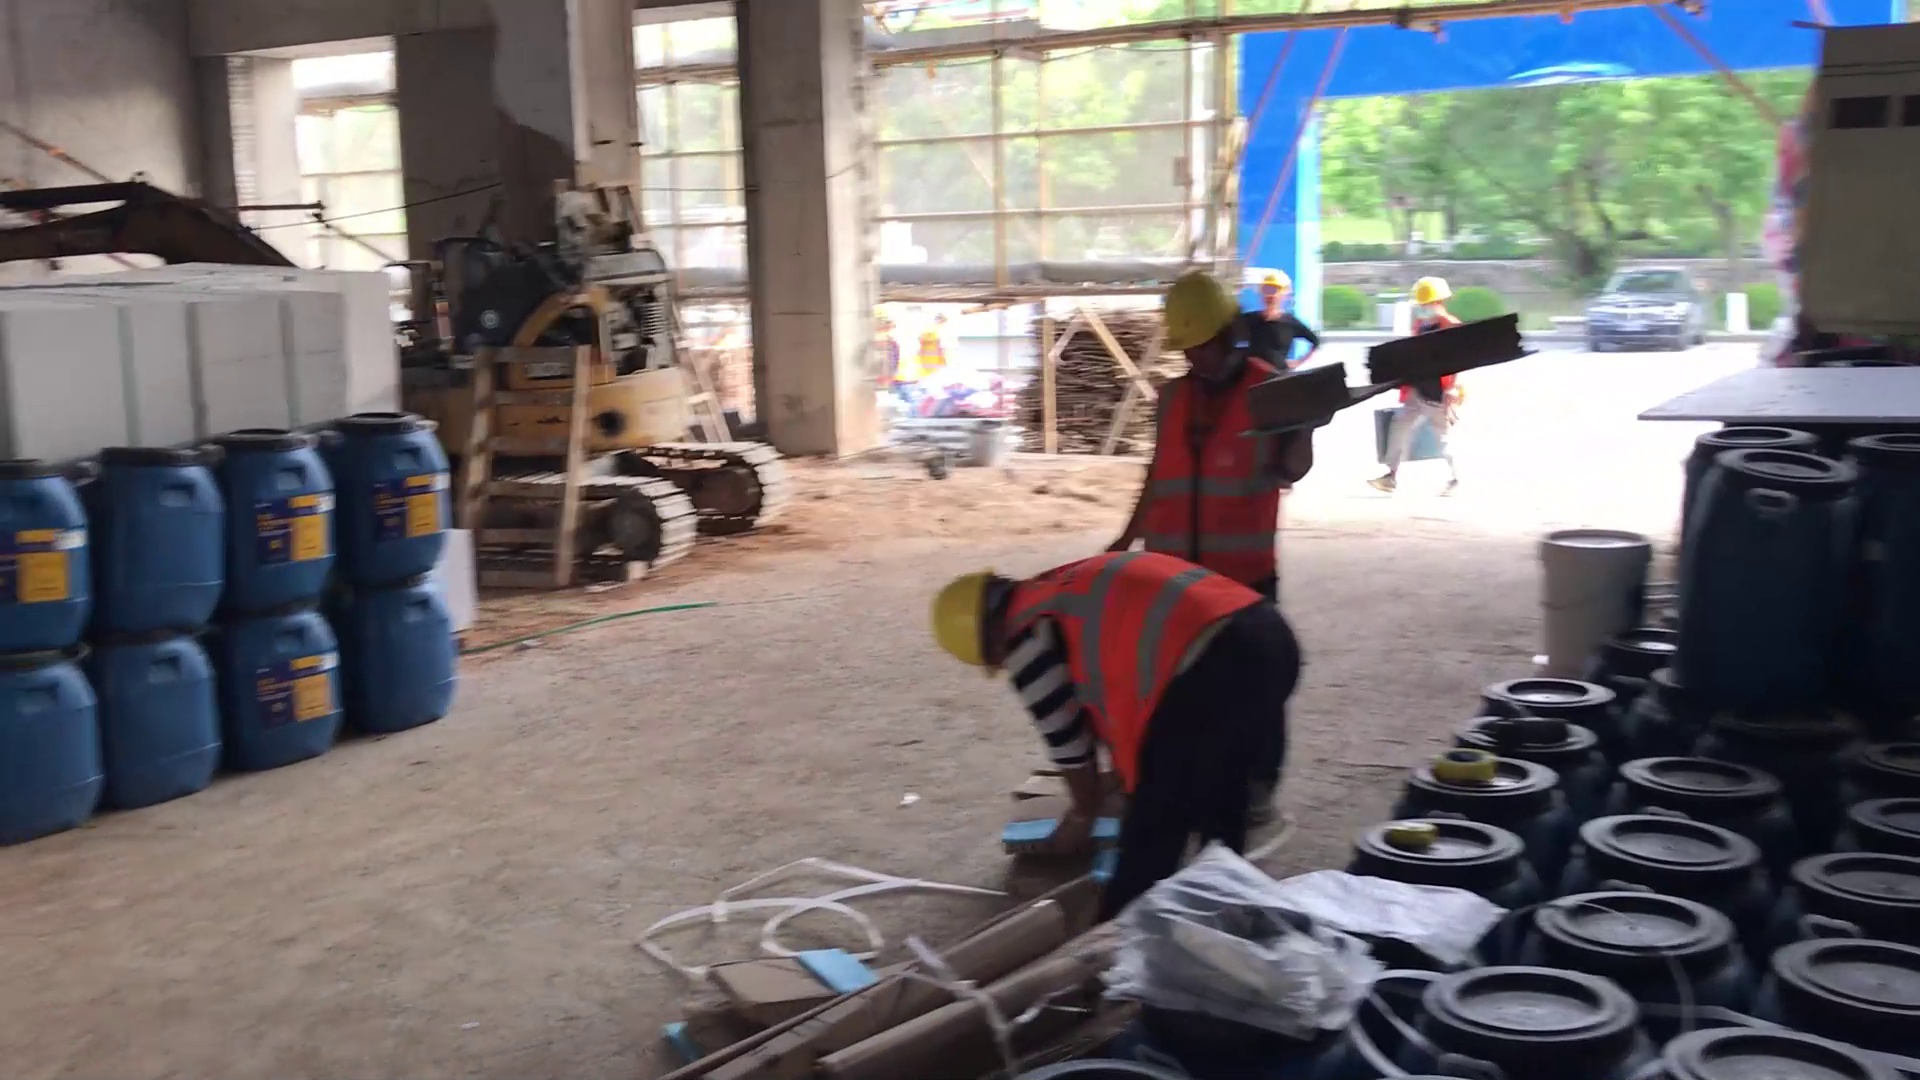helmet: (925, 558, 995, 683), (1148, 272, 1245, 363), (1404, 272, 1456, 308), (1254, 258, 1296, 293)
person: (922, 557, 1343, 922), (1096, 274, 1336, 858), (1367, 242, 1477, 502), (1240, 250, 1322, 382)
vest: (1010, 550, 1269, 789), (1138, 371, 1291, 591)
